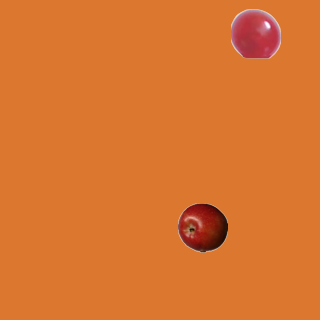Apple Braeburn: (177, 202, 227, 252)
Redcurrant: (230, 8, 280, 58)
